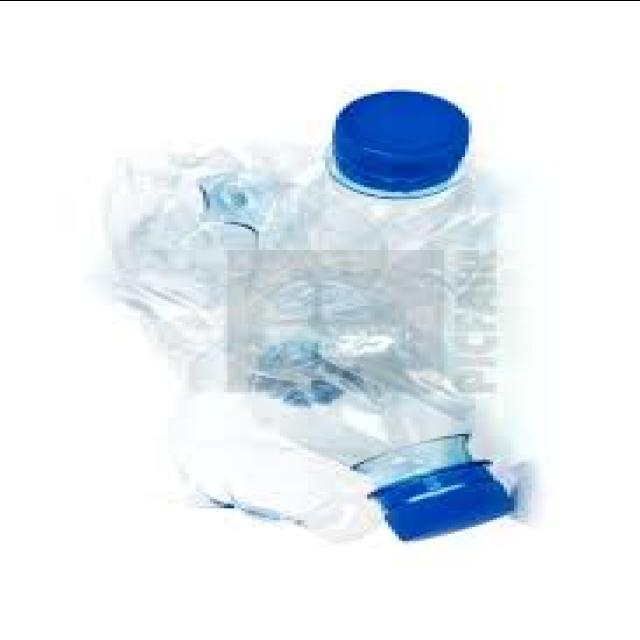寶特瓶: (74, 75, 518, 326), (82, 320, 538, 550)
